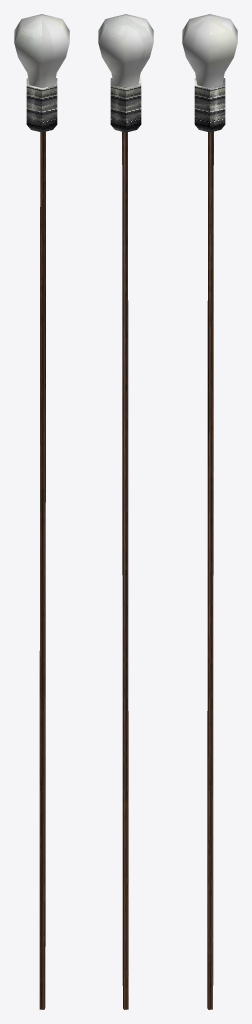
The model's file is lightbulb_hanging.fbx.
The picture shows the model from 3 angles, left to right: view 1: azimuth 30°, elevation 25°; view 2: azimuth 150°, elevation 25°; view 3: azimuth 330°, elevation 25°; orthographic projection.
Visible parts, largest first — view 1: mesh_2, mesh_0, mesh_1; view 2: mesh_2, mesh_0, mesh_1; view 3: mesh_2, mesh_0, mesh_1.
Boxes of the visible parts, x1,y1,x2,y2 form: mesh_2: (39,131,45,1009); mesh_0: (14,14,69,88); mesh_1: (26,78,57,132); mesh_2: (122,131,128,1009); mesh_0: (98,14,153,87); mesh_1: (110,78,141,132); mesh_2: (207,131,213,1009); mesh_0: (182,14,237,88); mesh_1: (194,78,225,132).
Size of the model in its own units: 8.94 by 154 by 7.74.
Materials: 3 (3 with a texture image).
